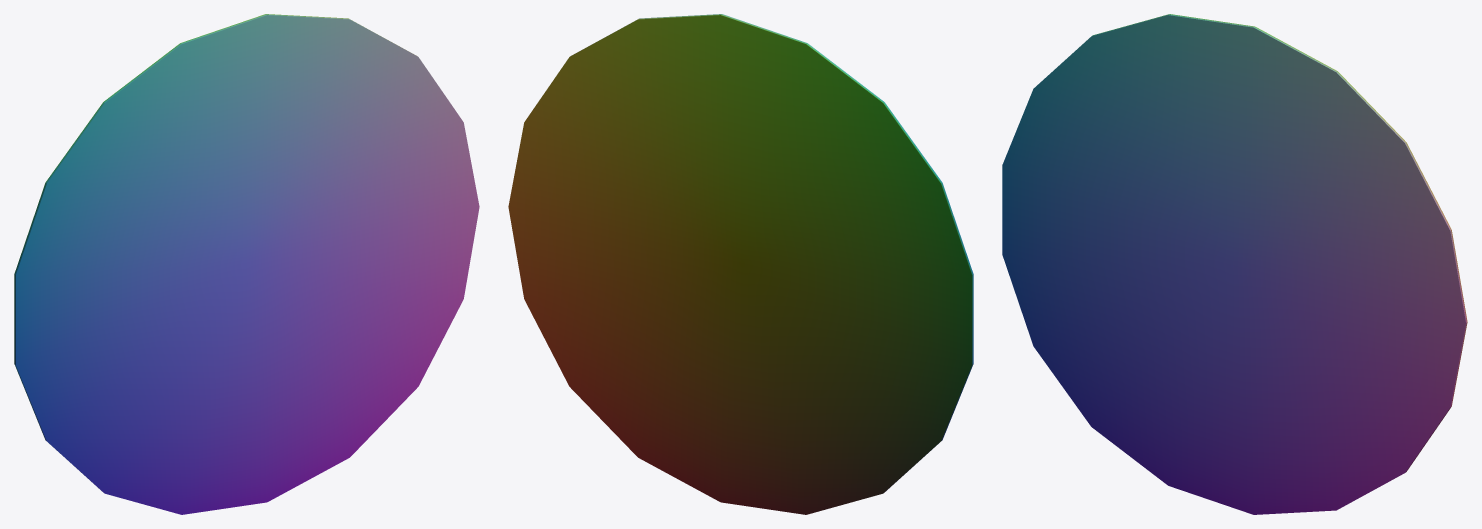
The model's file is zeometry-flat-shapes-flat-oval_v12.glb.
The picture shows the model from 3 angles, left to right: view 1: azimuth 30°, elevation 25°; view 2: azimuth 150°, elevation 25°; view 3: azimuth 330°, elevation 25°; orthographic projection.
Visible parts, largest first — view 1: Flat Oval_v12; view 2: Flat Oval_v12; view 3: Flat Oval_v12.
Boxes of the visible parts, <box> form: Flat Oval_v12: <box>14,14,479,514</box>; Flat Oval_v12: <box>508,14,973,514</box>; Flat Oval_v12: <box>1002,14,1467,514</box>.
Size of the model in its own units: 0.4979 by 0.5 by 0.00281.
